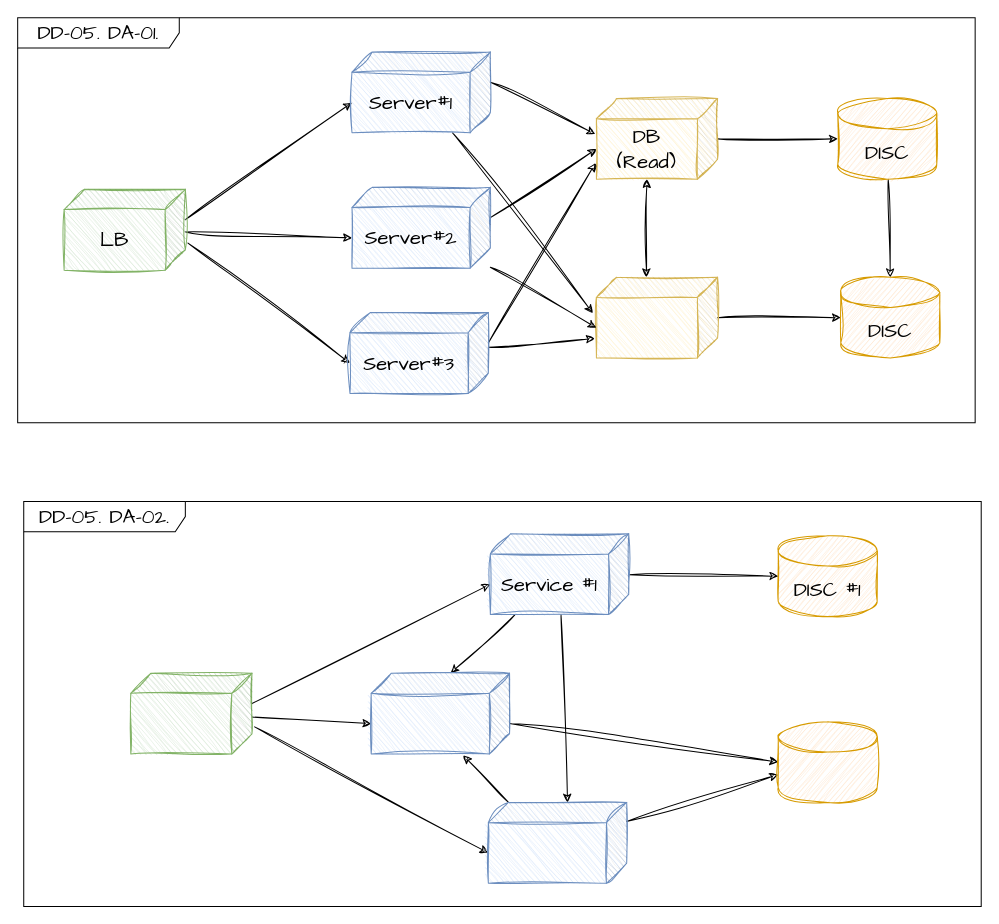
The diagram is 999 pixels wide and 924 high, and some of its shapes have lost their labels. The centre of each missing label's shape, as x and y in pixels:
"API Gateway" belongs at [191,713].
"DB (Write)" belongs at [656,317].
"DISC #2" belongs at [827,761].
"Service #2" belongs at [440,713].
"Service #3" belongs at [557,842].
